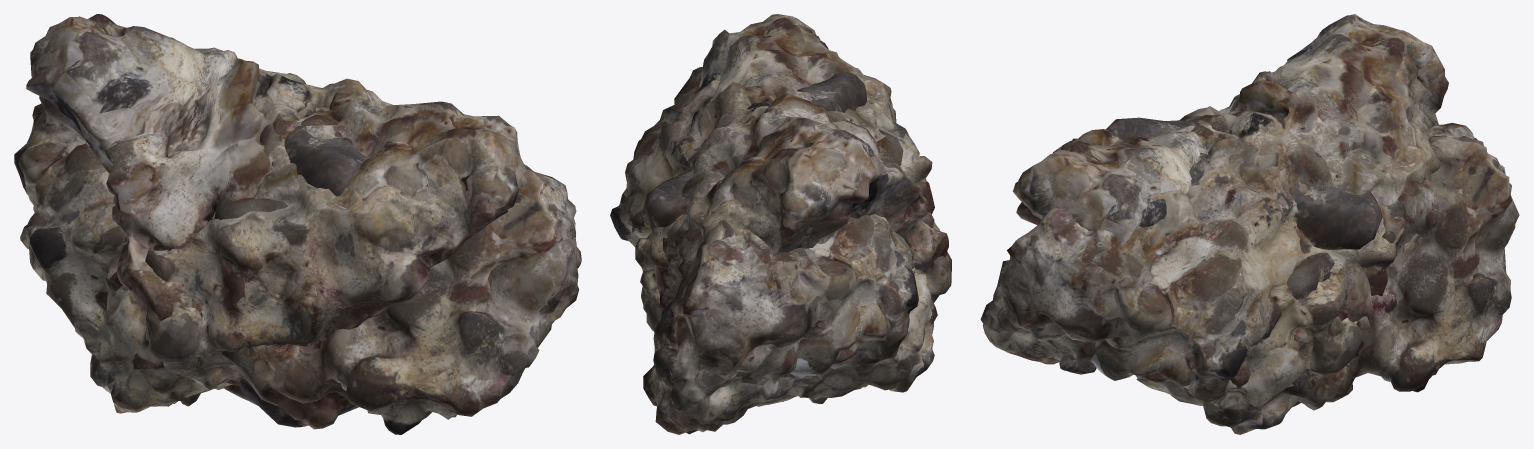
3 renders of one model, left to right at view 1: azimuth 30°, elevation 25°; view 2: azimuth 150°, elevation 25°; view 3: azimuth 270°, elevation 25°, orthographic. The views are drawn at different scales.
Parts seen in each view (by area): view 1: Object_2.002; view 2: Object_2.002; view 3: Object_2.002.
Boxes of the visible parts, <box> form: Object_2.002: <box>14,14,581,434</box>; Object_2.002: <box>610,14,951,434</box>; Object_2.002: <box>980,14,1519,434</box>.
Bounding box in the file's own units: 7.7 × 6.55 × 9.74.
1 material, 1 textured.
